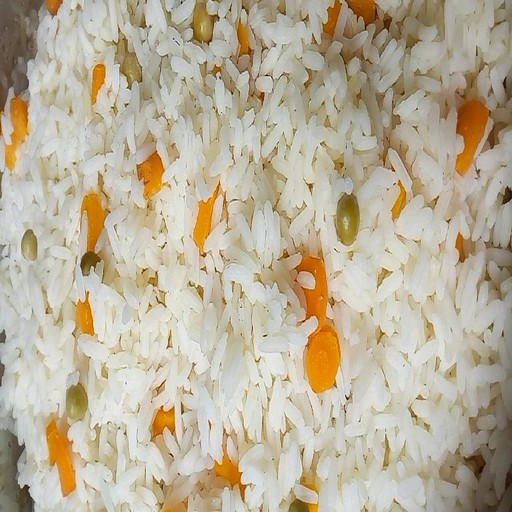rice: (132, 96, 405, 444)
